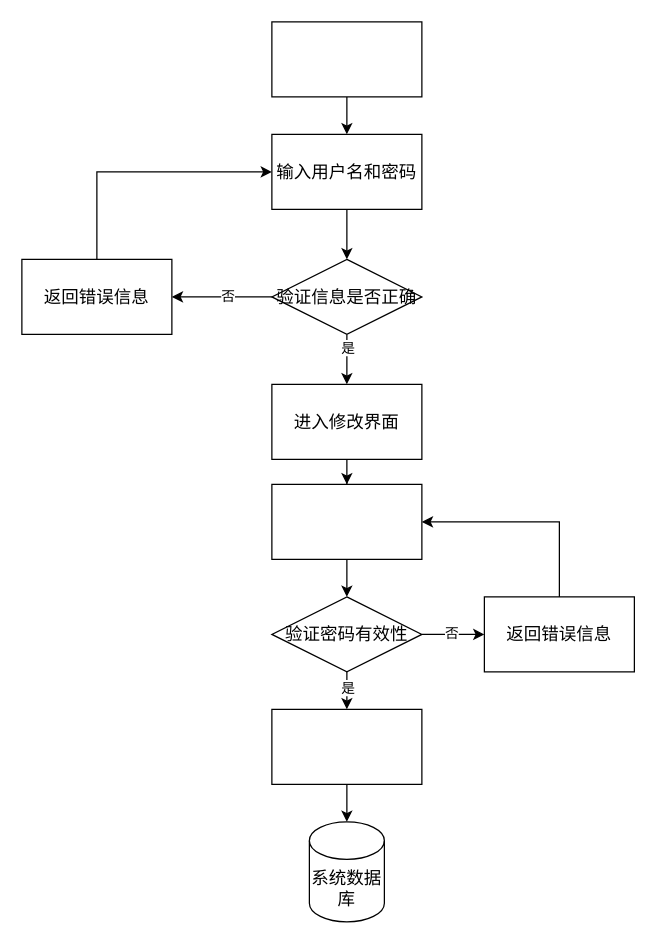
Some shapes in this 656 by 944 pixel diagram are drawn without their labels. Here are the shapes that lost their labels. From the top down, the centre of each, then its label:
[346,59]: 修改密码
[346,521]: 输入新密码
[346,746]: 修改后台数据库
